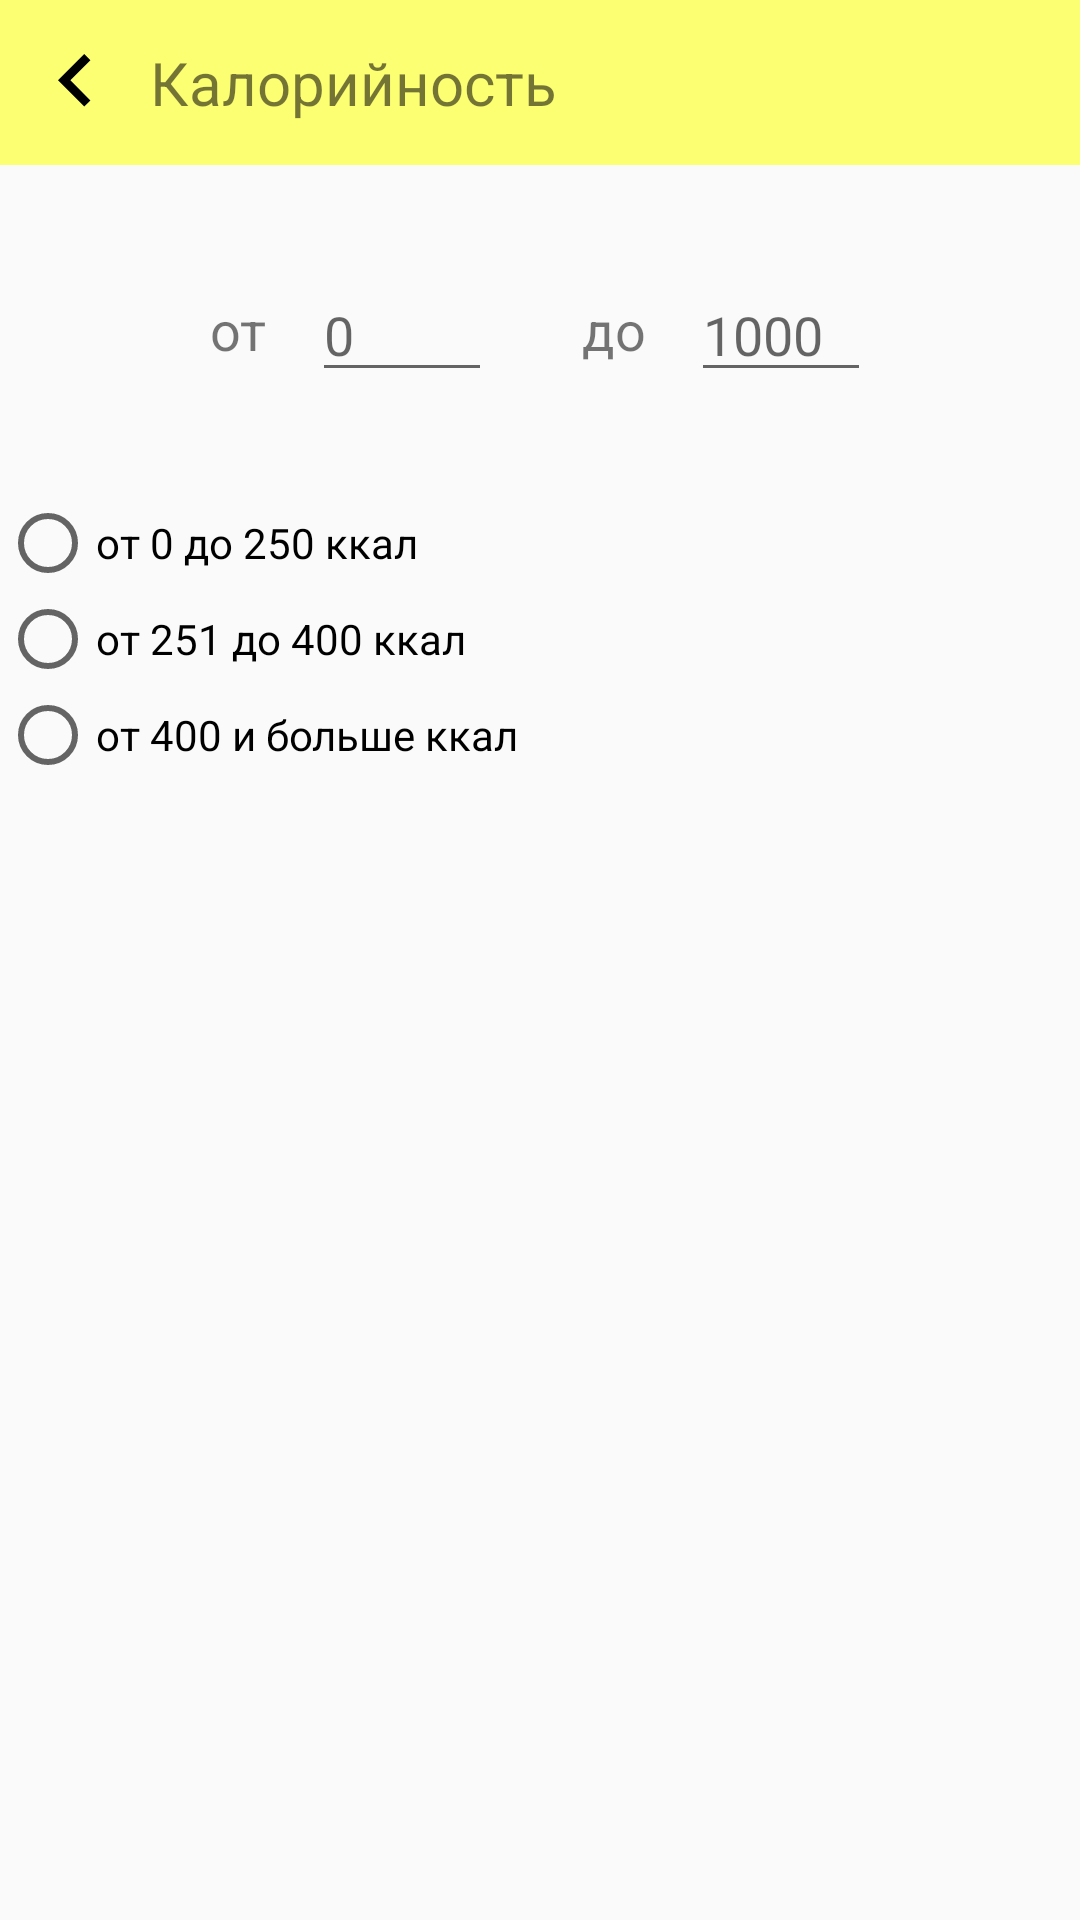

Screen size 1080 × 1920. Icon name, then its center in pixels as point (x, y):
arrow left: point (74, 80)
